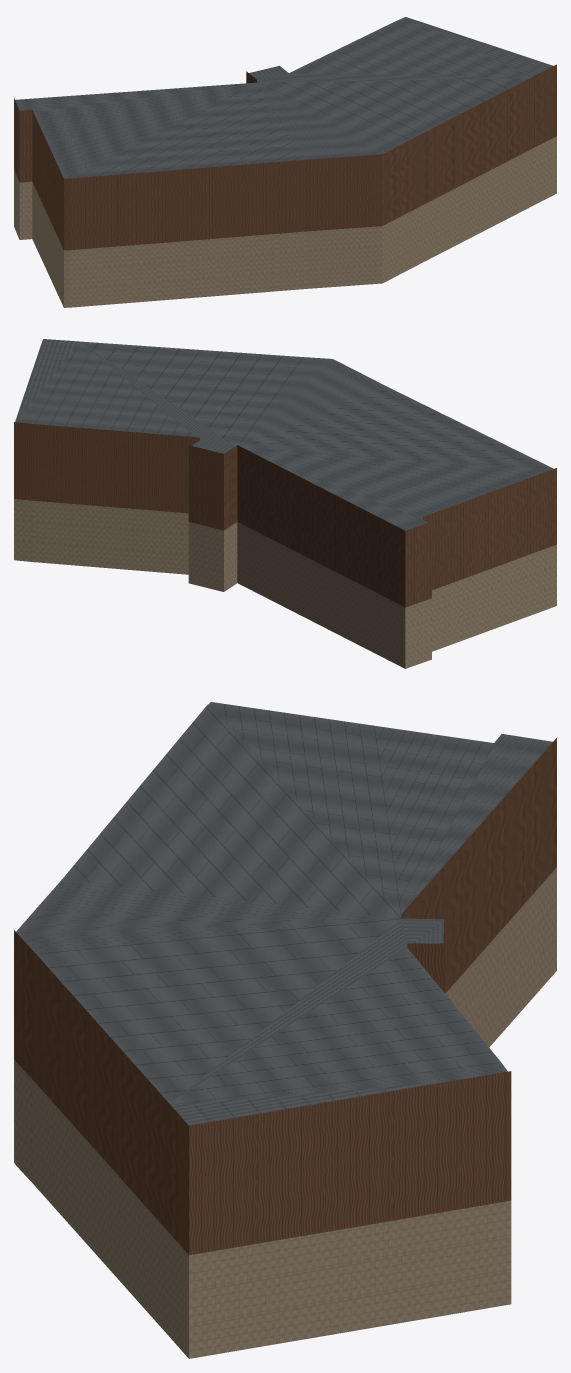
Rendered from core_0129.gltf.
The picture shows the model from 3 angles, top to bottom: view 1: azimuth 30°, elevation 25°; view 2: azimuth 150°, elevation 25°; view 3: azimuth 270°, elevation 25°; orthographic projection. The views are drawn at different scales.
Visible parts, largest first — view 1: core_0129; view 2: core_0129; view 3: core_0129.
Boxes of the visible parts, x1=… form: core_0129: x1=14, y1=17, x2=556, y2=307; core_0129: x1=14, y1=339, x2=556, y2=668; core_0129: x1=14, y1=702, x2=556, y2=1358.
Bounding box in the file's own units: 45.26 × 11.48 × 24.22.
Materials: 3 (3 with a texture image).
